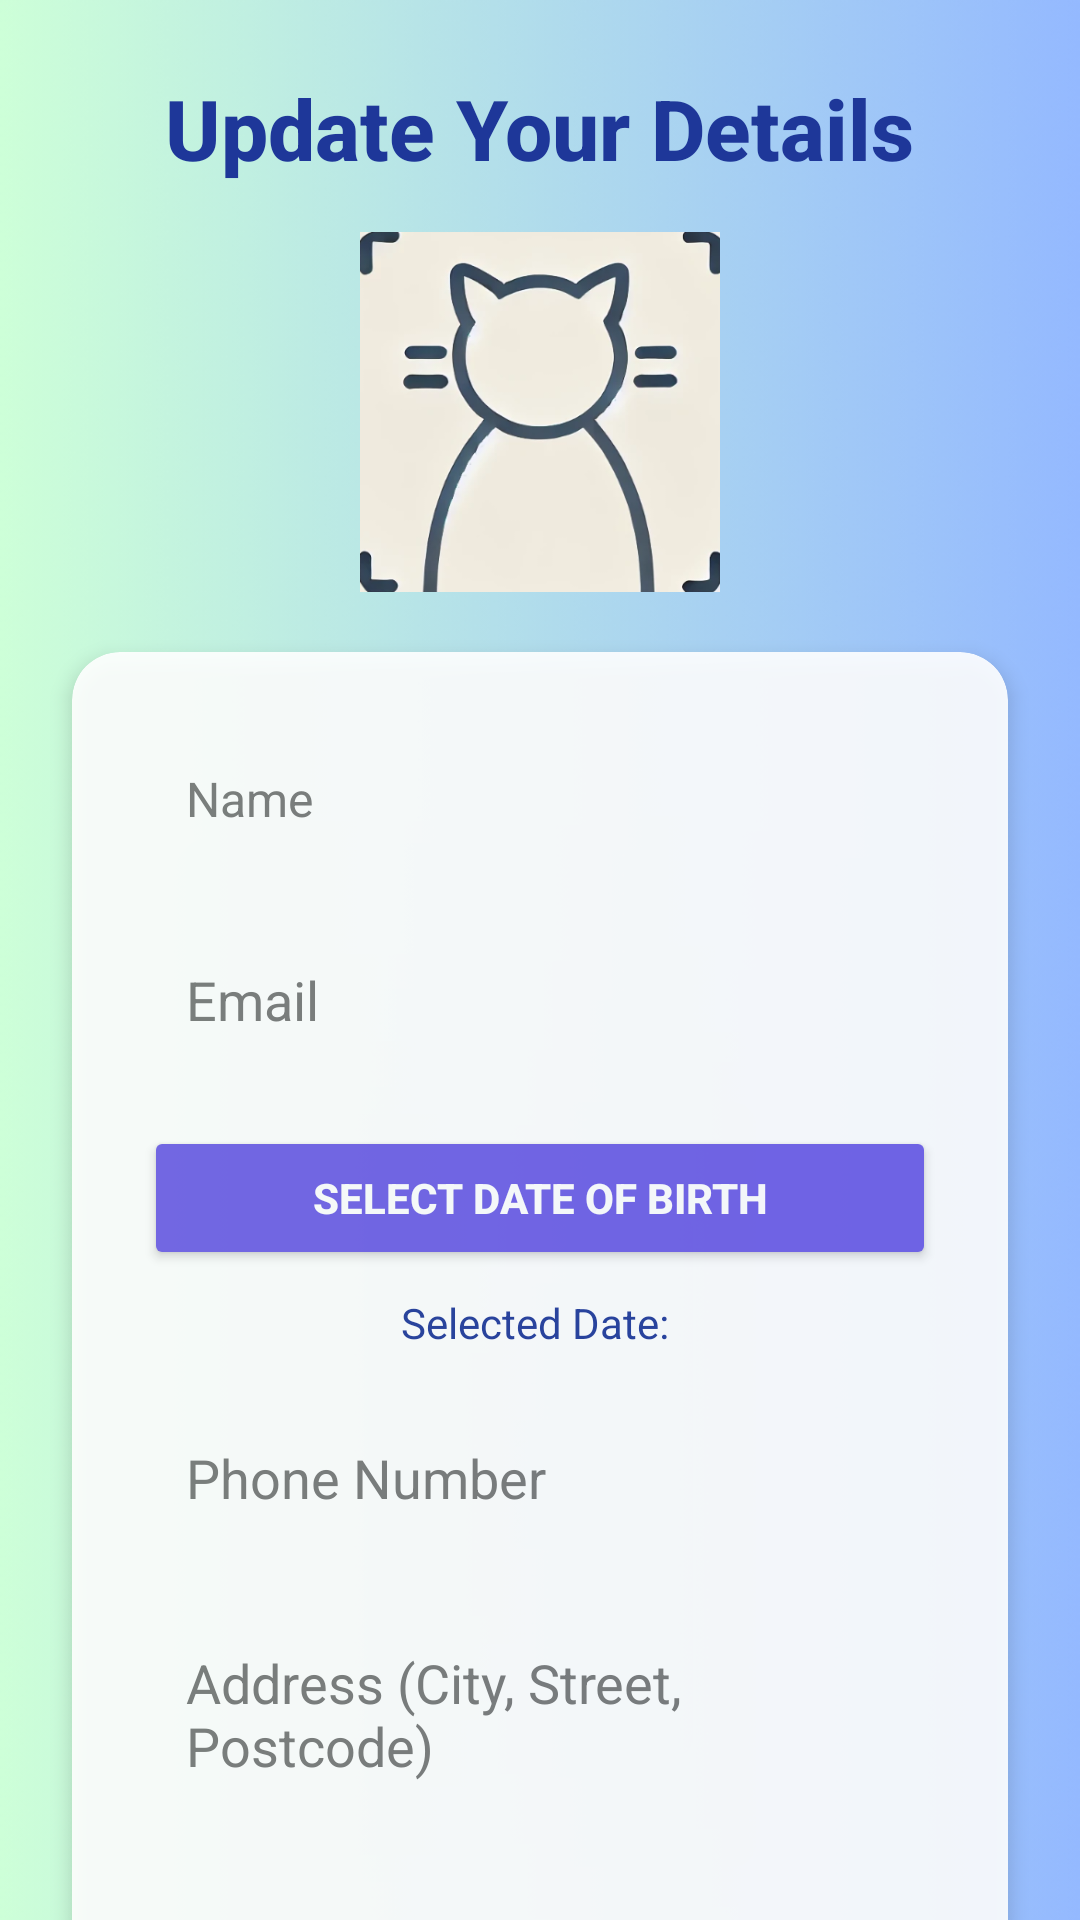

Icon bounding boxes for this 1080×1920 phone screenshot, format region(x1, y1, x2, y2):
Profile Picture: region(360, 232, 720, 592)
